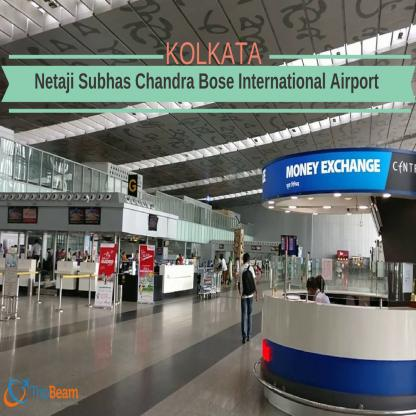airport-trolley: (193, 262, 223, 301)
